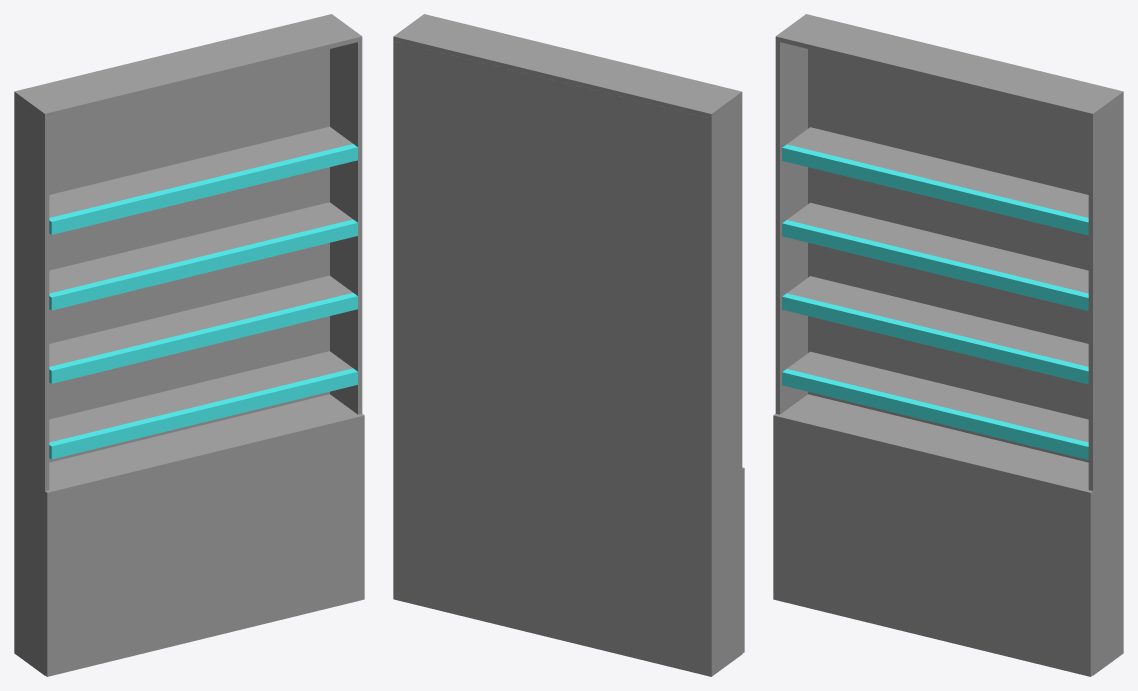
The model's file is shelves.fbx.
3 views of the same model, side by side, from view 1: azimuth 30°, elevation 25°; view 2: azimuth 150°, elevation 25°; view 3: azimuth 330°, elevation 25° (orthographic).
Parts seen in each view (by area): view 1: pCube9, pCube5, pCube7, pCube2, pCube3, pCube4, pCube1, pCube8, pCube6, pCube10; view 2: pCube5, pCube7, pCube8, pCube6, pCube9; view 3: pCube9, pCube5, pCube6, pCube3, pCube2, pCube4, pCube1, pCube8, pCube7, pCube10.
Boxes of the visible parts, bbox=[...] form: pCube9: bbox=[44, 413, 364, 676]; pCube5: bbox=[49, 49, 329, 462]; pCube7: bbox=[14, 96, 49, 675]; pCube2: bbox=[49, 202, 357, 310]; pCube3: bbox=[49, 275, 357, 383]; pCube4: bbox=[49, 351, 357, 459]; pCube1: bbox=[49, 126, 357, 234]; pCube8: bbox=[14, 14, 362, 118]; pCube6: bbox=[330, 41, 362, 414]; pCube10: bbox=[14, 394, 357, 495]; pCube5: bbox=[398, 42, 706, 675]; pCube7: bbox=[707, 96, 742, 676]; pCube8: bbox=[393, 14, 742, 118]; pCube6: bbox=[393, 41, 397, 600]; pCube9: bbox=[742, 467, 744, 653]; pCube9: bbox=[773, 413, 1093, 676]; pCube5: bbox=[808, 49, 1088, 462]; pCube6: bbox=[1088, 96, 1123, 675]; pCube3: bbox=[782, 276, 1088, 384]; pCube2: bbox=[782, 202, 1088, 310]; pCube4: bbox=[782, 351, 1088, 459]; pCube1: bbox=[782, 127, 1088, 235]; pCube8: bbox=[775, 14, 1123, 118]; pCube7: bbox=[775, 41, 807, 414]; pCube10: bbox=[780, 394, 1123, 495].
Bounding box in the file's own units: 67.45 × 114 × 12.13.
